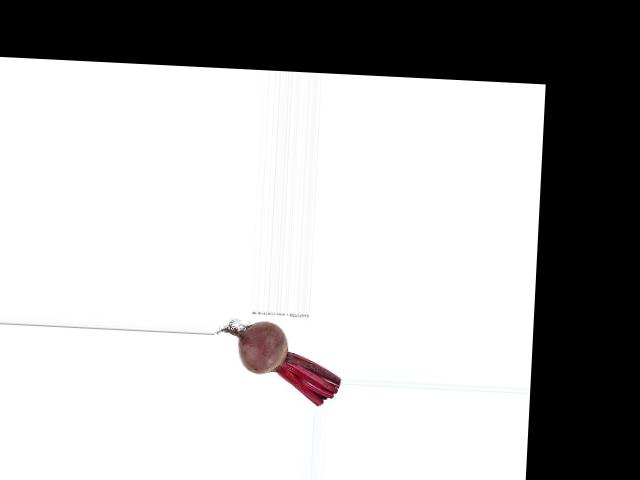beet: (213, 319, 344, 406)
